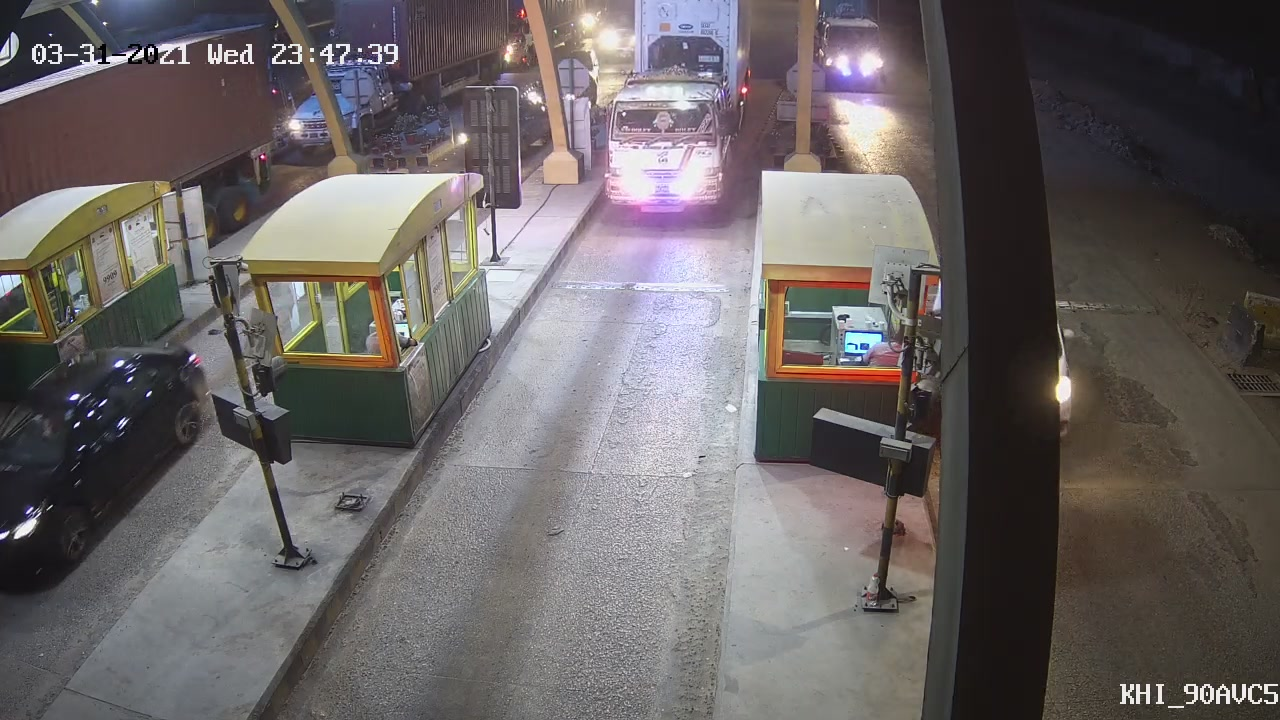F6: (602, 1, 755, 220)
